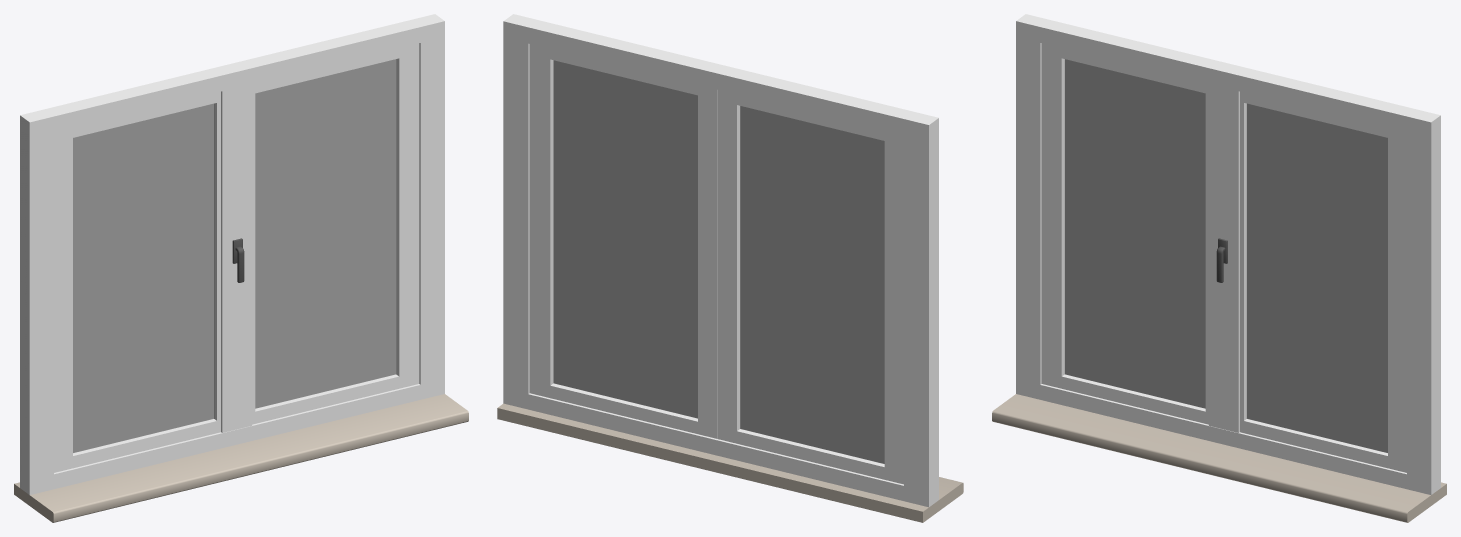
Rendered from windows.fbx.
3 renders of one model, left to right at view 1: azimuth 30°, elevation 25°; view 2: azimuth 150°, elevation 25°; view 3: azimuth 330°, elevation 25°, orthographic. The views are drawn at different scales.
Parts seen in each view (by area): view 1: glass, window, sash_2, sill, sash_1; view 2: glass, window, sash_2, sash_1, sill, glass_border; view 3: glass, window, sash_2, sill, sash_1, glass_border.
Boxes of the visible parts, x1,y1,x2,y2 form: glass: (73,59,396,452); window: (20,14,444,494); sash_2: (221,43,419,432); sill: (14,394,468,522); sash_1: (54,91,220,472); glass: (553,60,884,463); window: (503,14,938,507); sash_2: (529,44,717,438); sash_1: (717,90,903,484); sill: (497,403,963,522); glass_border: (553,60,883,463); glass: (1065,59,1387,452); window: (1016,14,1440,494); sash_2: (1208,84,1406,472); sill: (992,394,1446,522); sash_1: (1041,43,1208,424); glass_border: (1064,59,1387,453).
Bounding box in the file's own units: 15.94 × 14.08 × 2.64.
